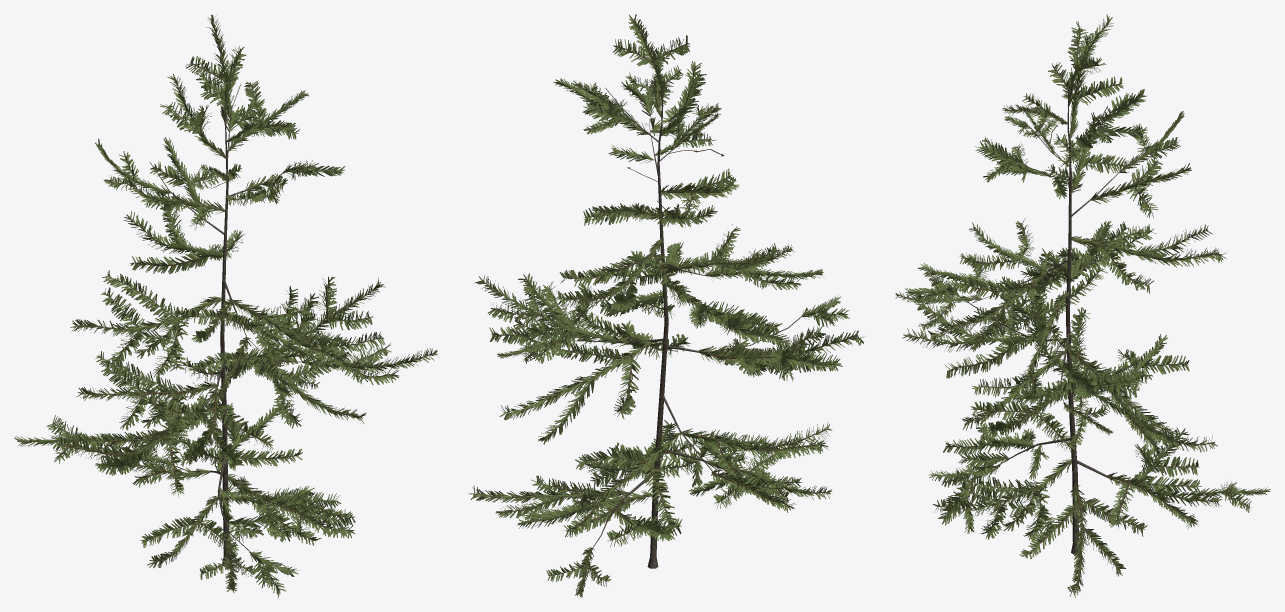
The model's file is fir_sapling_lod0.gltf.
The picture shows the model from 3 angles, left to right: view 1: azimuth 30°, elevation 25°; view 2: azimuth 150°, elevation 25°; view 3: azimuth 270°, elevation 25°; orthographic projection. The views are drawn at different scales.
Parts seen in each view (by area): view 1: specter-fir-sapling-lod0; view 2: specter-fir-sapling-lod0; view 3: specter-fir-sapling-lod0.
Boxes of the visible parts, bbox=[...] form: specter-fir-sapling-lod0: bbox=[14, 14, 439, 597]; specter-fir-sapling-lod0: bbox=[468, 14, 865, 597]; specter-fir-sapling-lod0: bbox=[895, 14, 1270, 597].
Bounding box in the file's own units: 0.8611 × 1.3 × 0.8222.
Materials: 2 (2 with a texture image).
